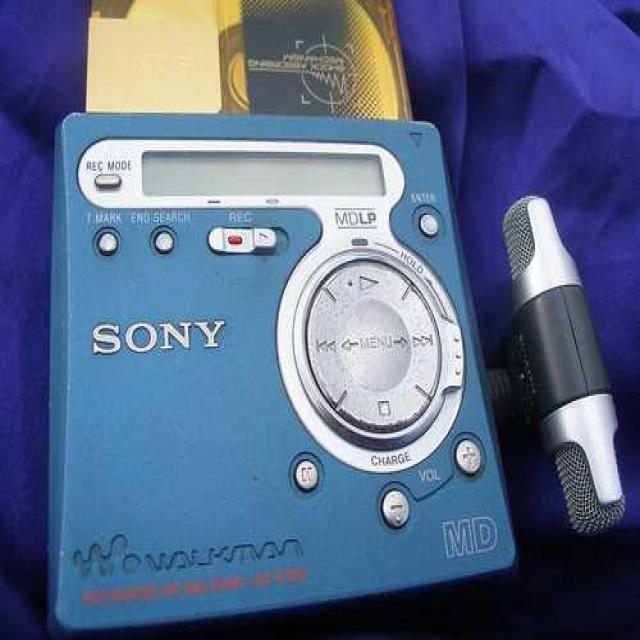microphone: (495, 195, 626, 535)
